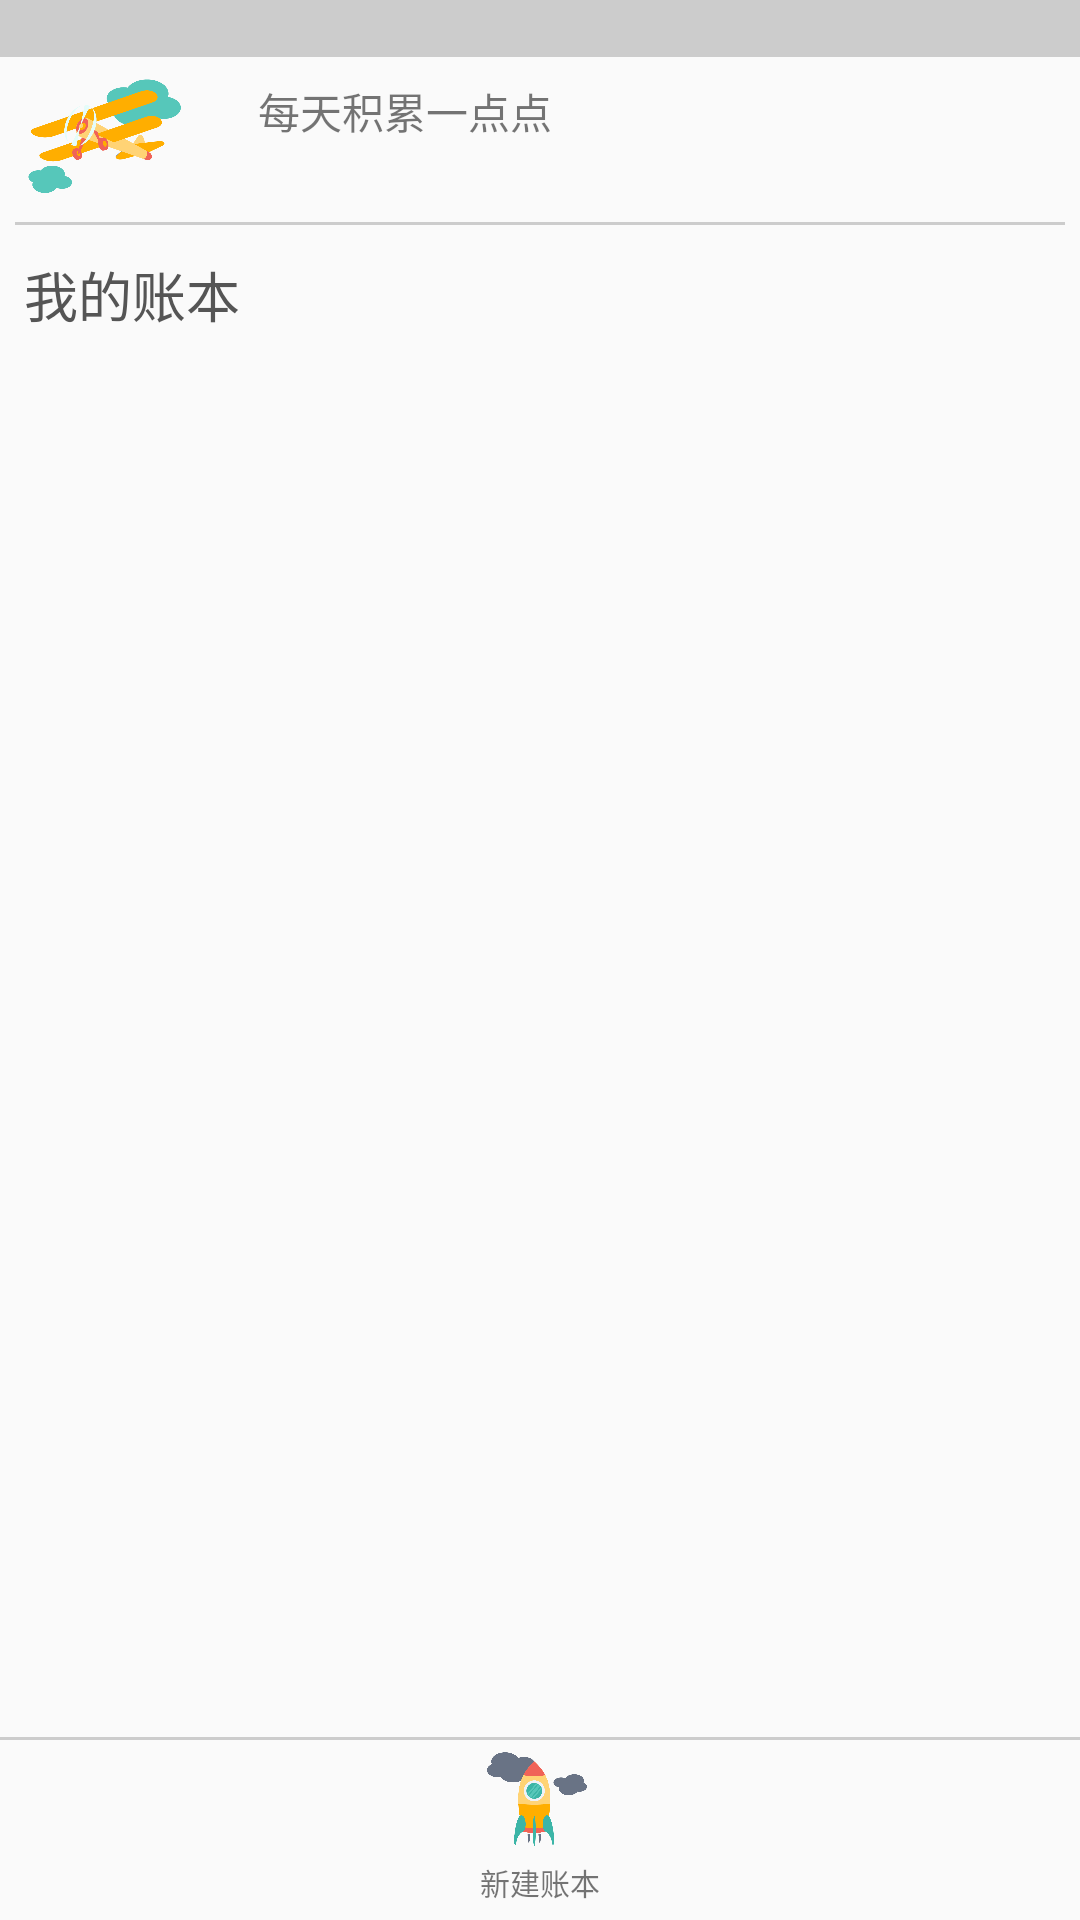

Where icons sit on this 1080x1920 app screen, as Rect(x1, y1, x2, y2):
feiji: Rect(28, 79, 181, 193)
huojian: Rect(487, 1752, 587, 1846)
